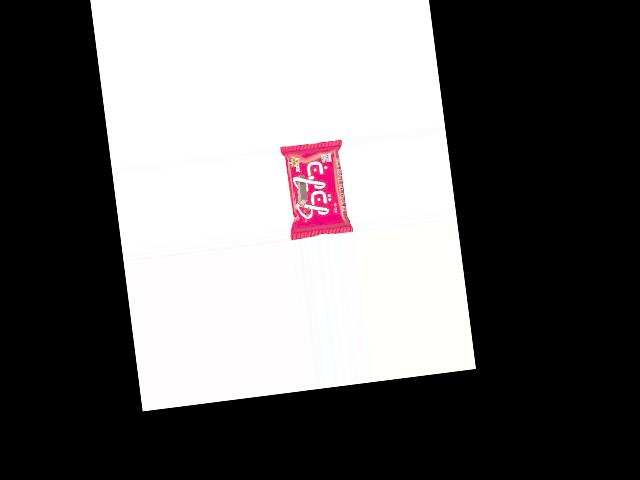chocolate: (279, 139, 354, 239)
